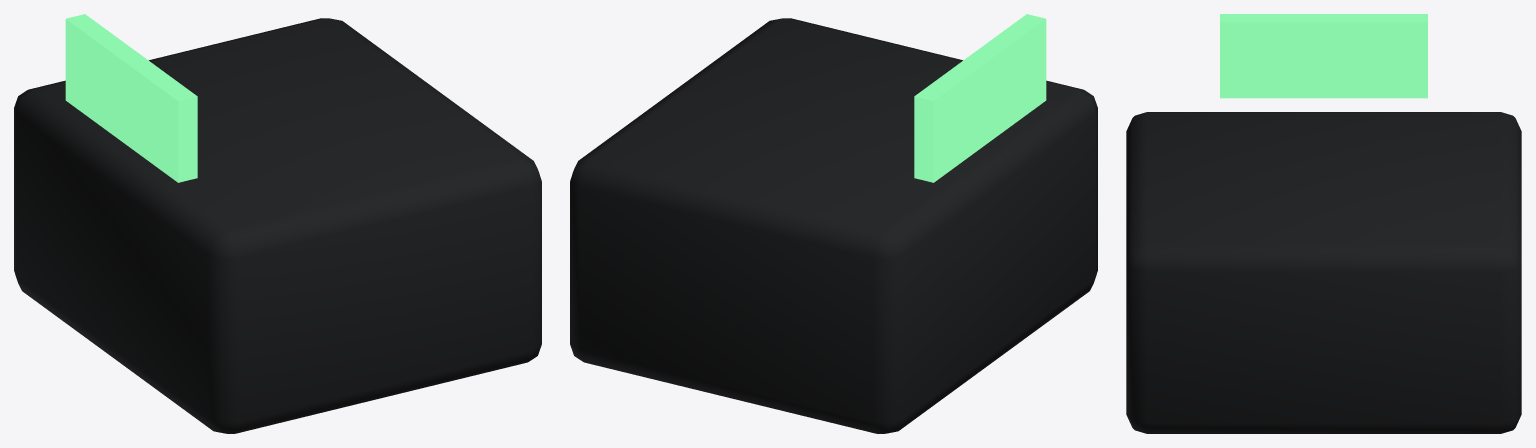
The model's file is caixa_registradora.glb.
3 views of the same model, side by side, from view 1: azimuth 30°, elevation 25°; view 2: azimuth 150°, elevation 25°; view 3: azimuth 270°, elevation 25° (orthographic). The views are drawn at different scales.
Visible parts, largest first — view 1: Caixa_Registradora, Caixa_Registradora_Visor; view 2: Caixa_Registradora, Caixa_Registradora_Visor; view 3: Caixa_Registradora, Caixa_Registradora_Visor.
Part boxes in pixels (x1,y1,x2,y2): Caixa_Registradora: (14, 18, 541, 433); Caixa_Registradora_Visor: (65, 14, 197, 182); Caixa_Registradora: (570, 18, 1097, 433); Caixa_Registradora_Visor: (914, 14, 1046, 182); Caixa_Registradora: (1126, 112, 1521, 433); Caixa_Registradora_Visor: (1220, 14, 1427, 98).
Bounding box in the file's own units: 0.34 × 0.3 × 0.38.
